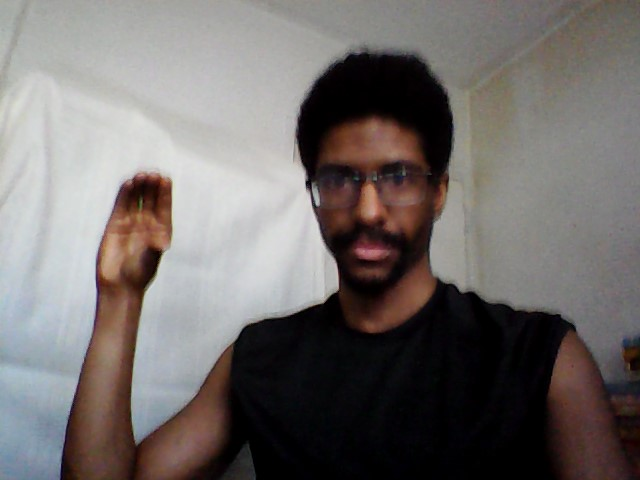c: (89, 167, 179, 295)
